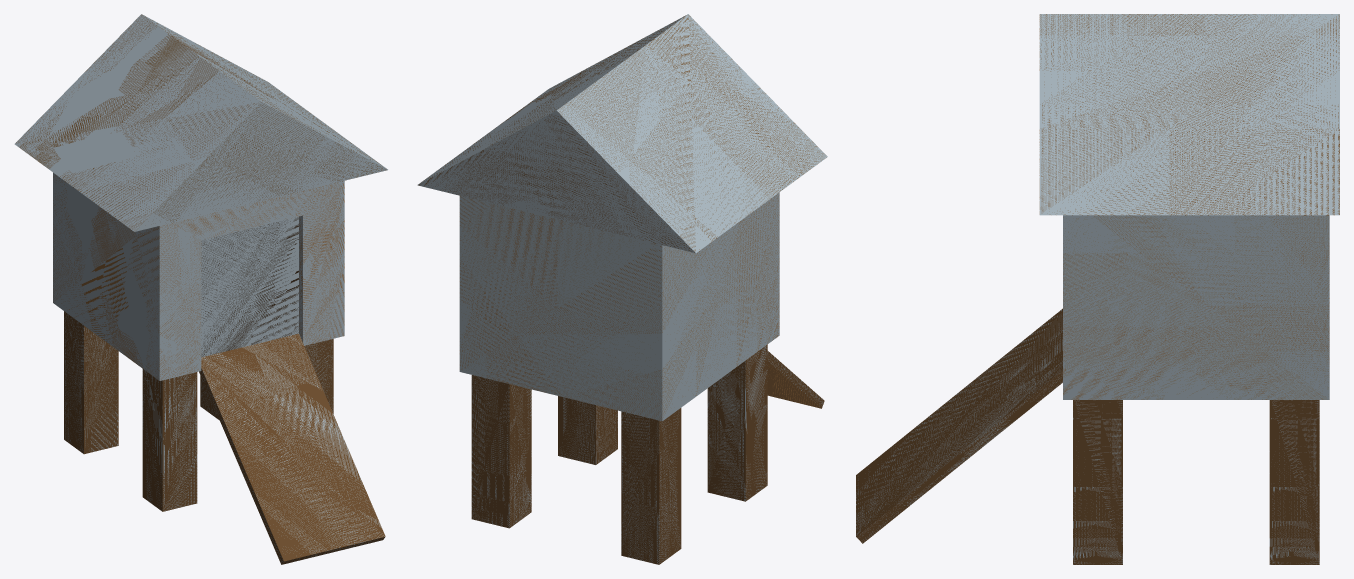
The model's file is Chicken_Coop_01.fbx.
3 views of the same model, side by side, from view 1: azimuth 30°, elevation 25°; view 2: azimuth 150°, elevation 25°; view 3: azimuth 270°, elevation 25° (orthographic). The views are drawn at different scales.
Visible parts, largest first — view 1: Model; view 2: Model; view 3: Model.
Boxes of the visible parts, left/top/right/bottom form: Model: left=14, top=14, right=387, bottom=564; Model: left=417, top=14, right=827, bottom=564; Model: left=856, top=14, right=1339, bottom=564.
Size of the model in its own units: 147 by 221 by 194.
